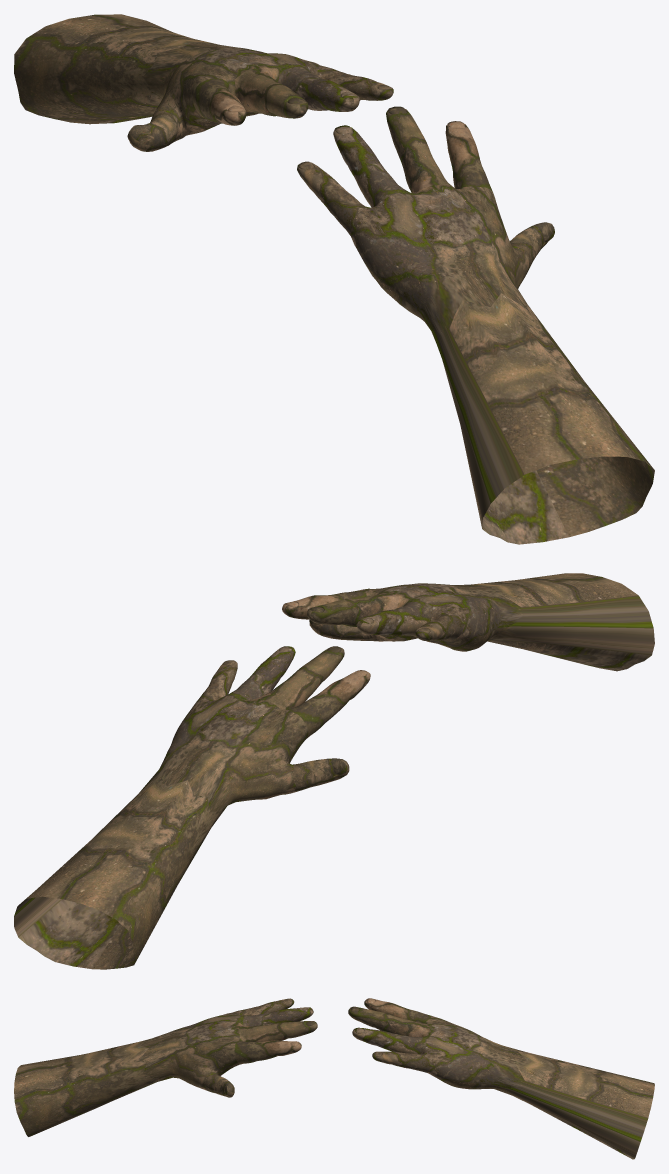
File: hands_000009.obj
The picture shows the model from 3 angles, top to bottom: view 1: azimuth 30°, elevation 25°; view 2: azimuth 150°, elevation 25°; view 3: azimuth 270°, elevation 25°; orthographic projection. The views are drawn at different scales.
Parts seen in each view (by area): view 1: hand.001_Mesh.001, hand_Mesh; view 2: hand_Mesh, hand.001_Mesh.001; view 3: hand_Mesh, hand.001_Mesh.001.
Boxes of the visible parts, x1,y1,x2,y2 form: hand.001_Mesh.001: (297,106,654,544); hand_Mesh: (14,14,393,151); hand_Mesh: (14,646,370,969); hand.001_Mesh.001: (282,573,654,671); hand_Mesh: (348,998,654,1159); hand.001_Mesh.001: (14,998,317,1136).
Size of the model in its own units: 1.58 by 1.4 by 6.37.
1 material, 1 textured.
